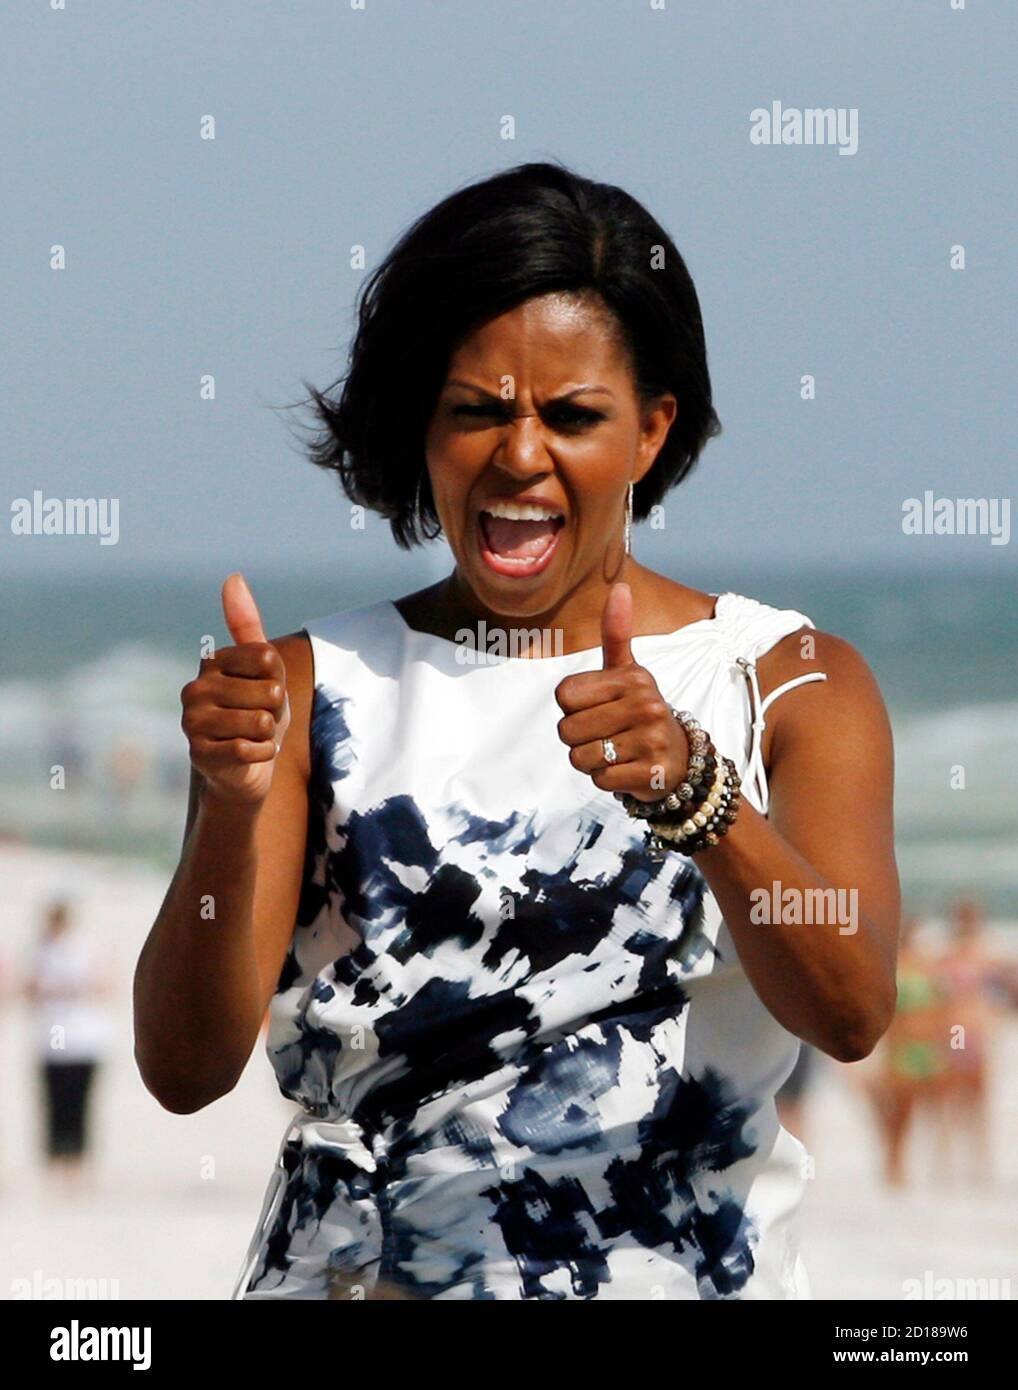thumbsUp: (545, 577, 693, 840), (165, 562, 304, 814)
